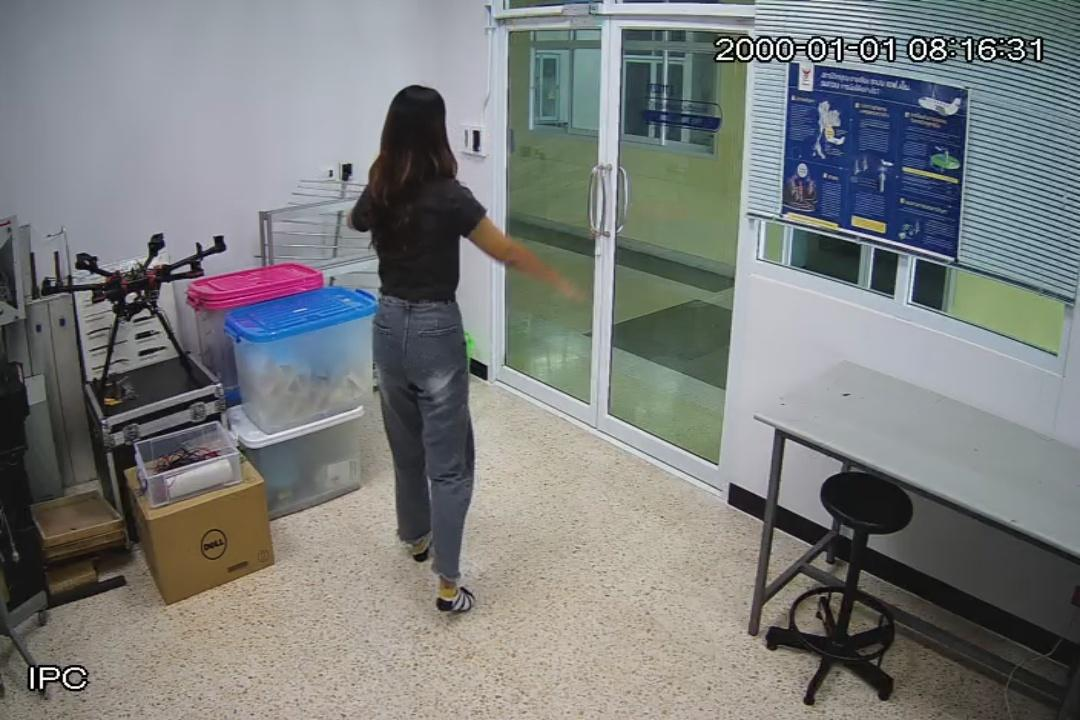normal: (348, 83, 588, 617)
